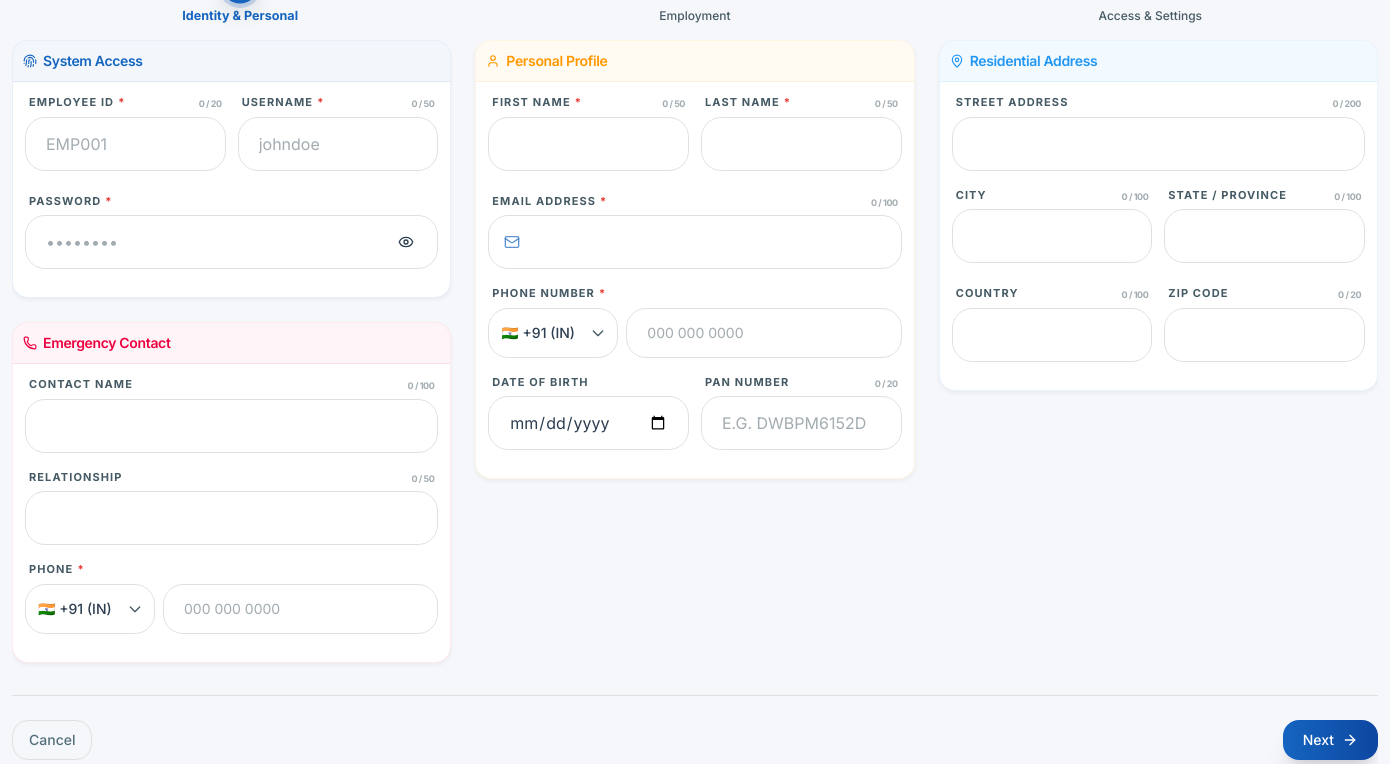
UserForm Component › validates required fields in Step 1
(page scrolled)
Click the button "Next" at (1330, 740), box [1283,720,1378,760]
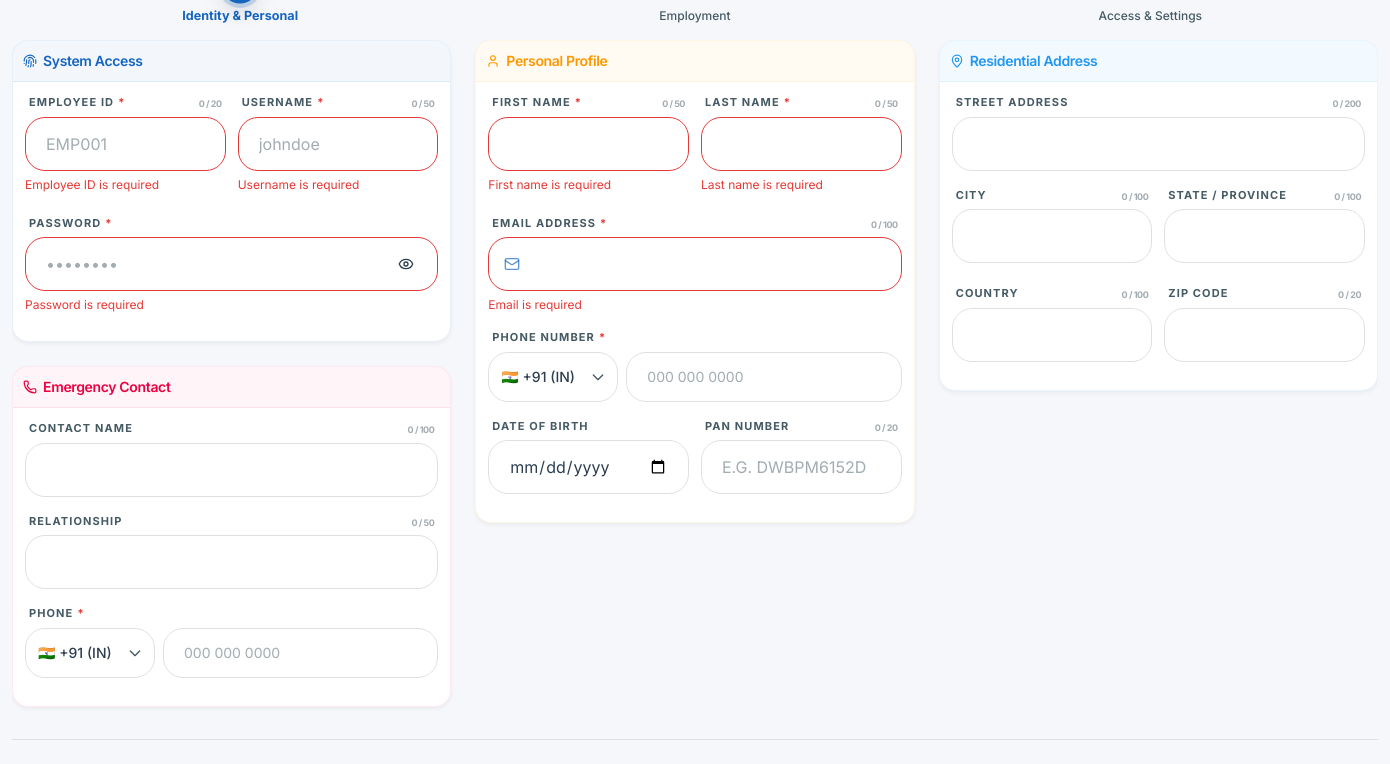
Now the text "First name is required" is shown, box [488,176,611,192]
Now the text "Last name is required" is shown, box [701,176,823,192]
Now the text "Email is required" is shown, box [488,297,582,312]
